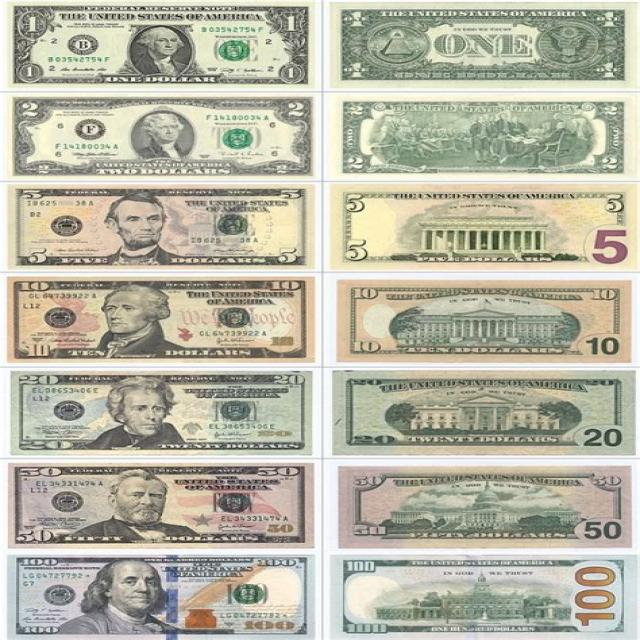Fifty: (9, 462, 314, 550), (341, 464, 633, 549)
Five: (5, 182, 313, 272), (333, 185, 634, 272)
Hundred: (7, 553, 315, 640), (333, 556, 640, 638)
One: (11, 1, 315, 90), (330, 0, 633, 88)
Ten: (4, 274, 320, 364), (334, 278, 630, 364)
Twenty: (6, 370, 314, 454), (333, 369, 633, 454)
Two: (7, 93, 320, 180), (332, 96, 638, 178)
